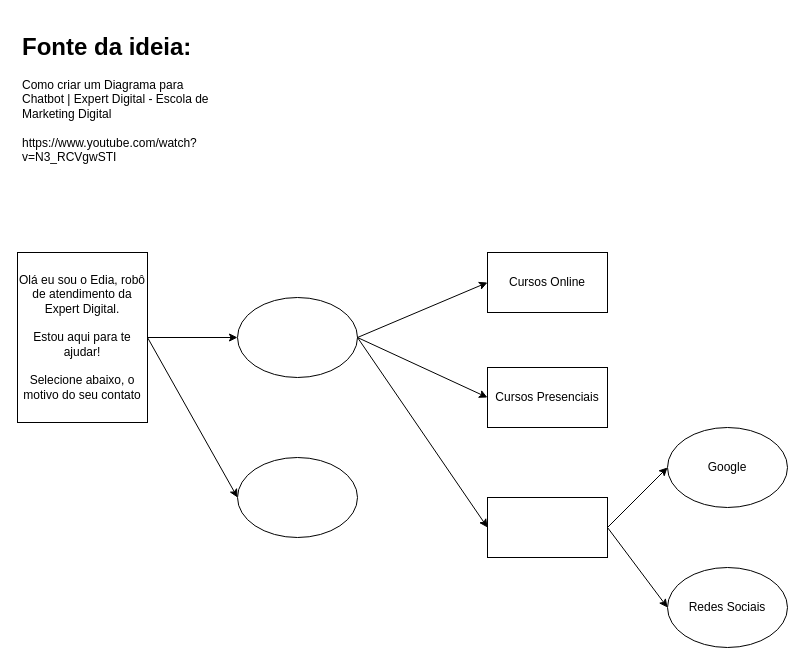
Image size: 805x665. Some labels were removed from this diagram. Here are the shapes that lost their labels. From the top down, the centre of each, then its label:
At (297,337): "Cursos".
At (297,497): "Consultoria".
At (547,527): "Cursos em Vídeo aulas".
